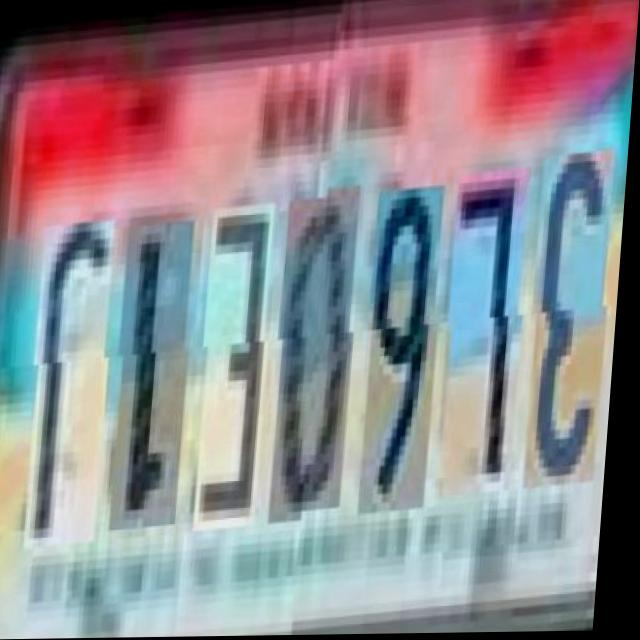1: (113, 202, 199, 513)
3: (526, 151, 618, 489)
6: (361, 181, 447, 511)
e: (198, 187, 280, 514)
j: (28, 200, 120, 529)
l: (442, 166, 533, 496)
o: (272, 180, 364, 509)
